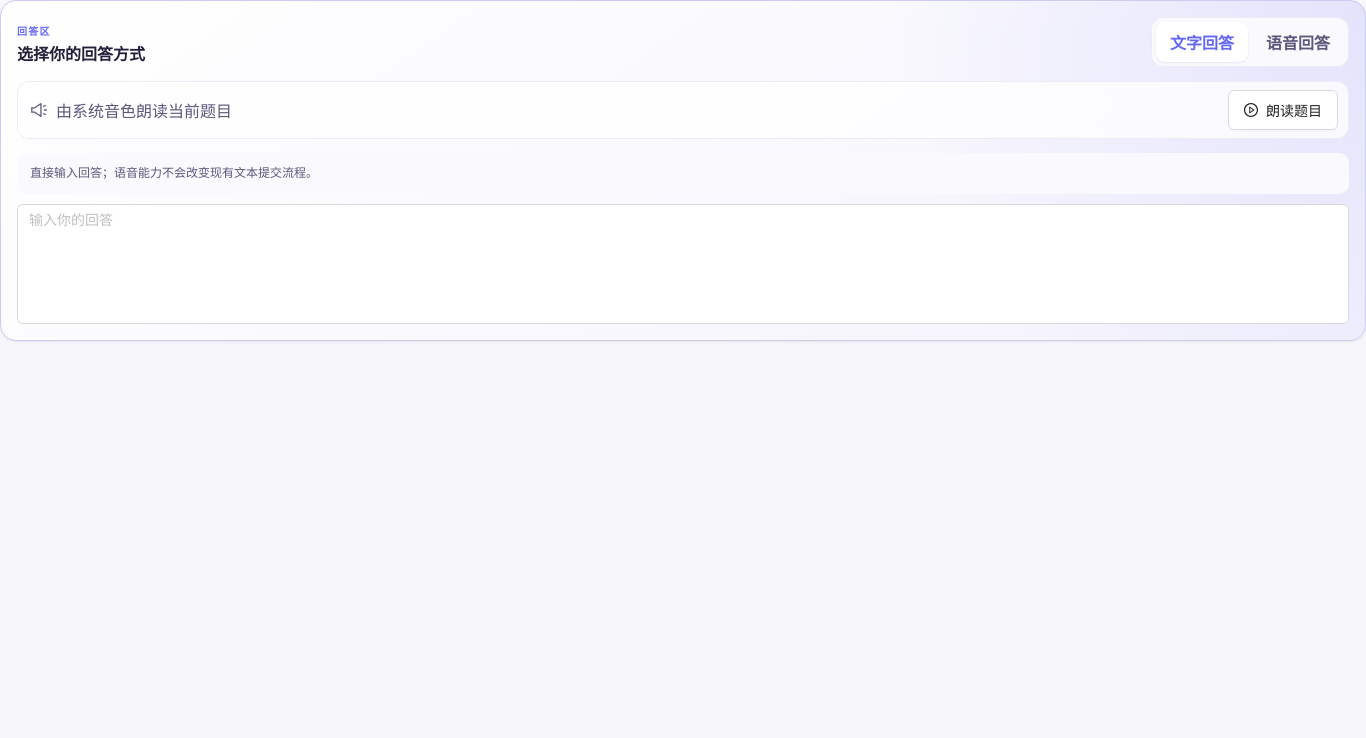
Test case: VoiceAnswerComposer › pauses local capture when the page becomes hidden
Click the button "语音回答".
click(1298, 42)  # box 1252,22 -> 1344,62
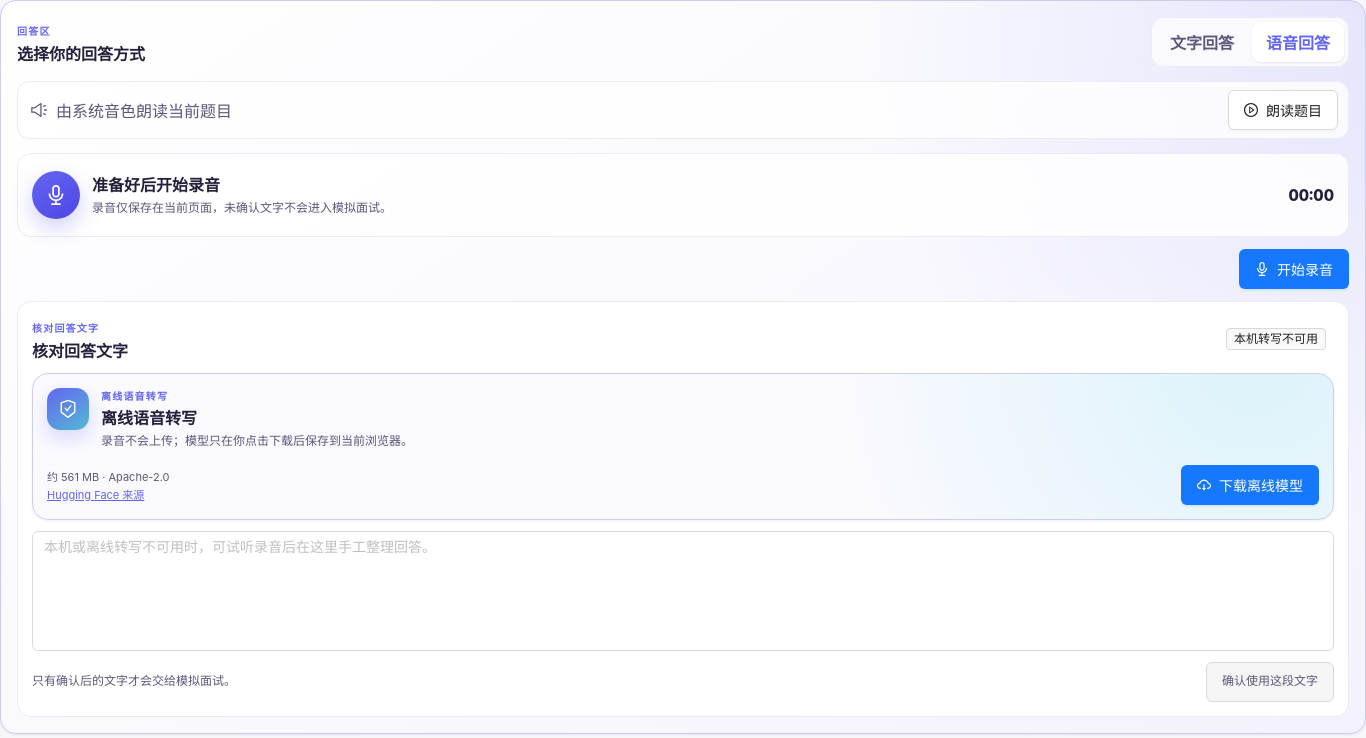
Click the button "开始录音".
click(1294, 269)  # box 1239,249 -> 1349,289
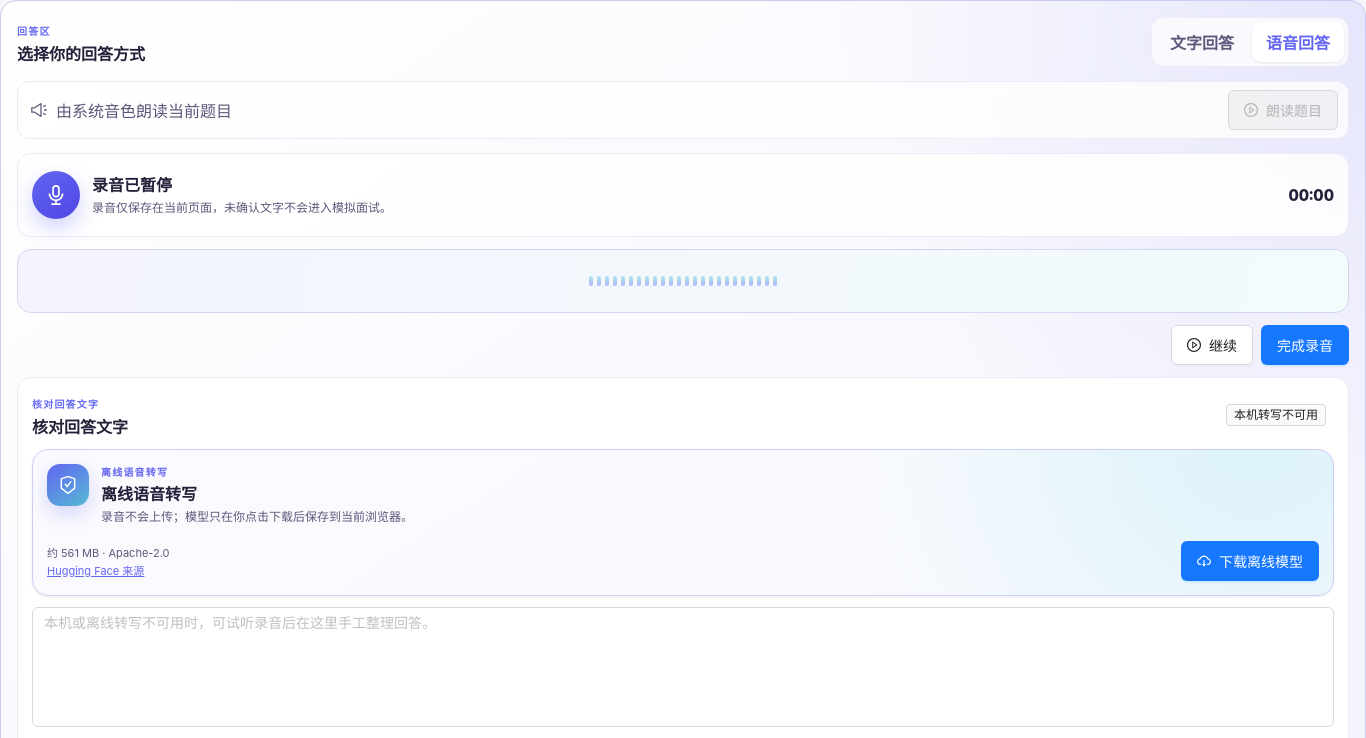
Expected: the text "录音已暂停" is shown, 92,175 -> 172,195
